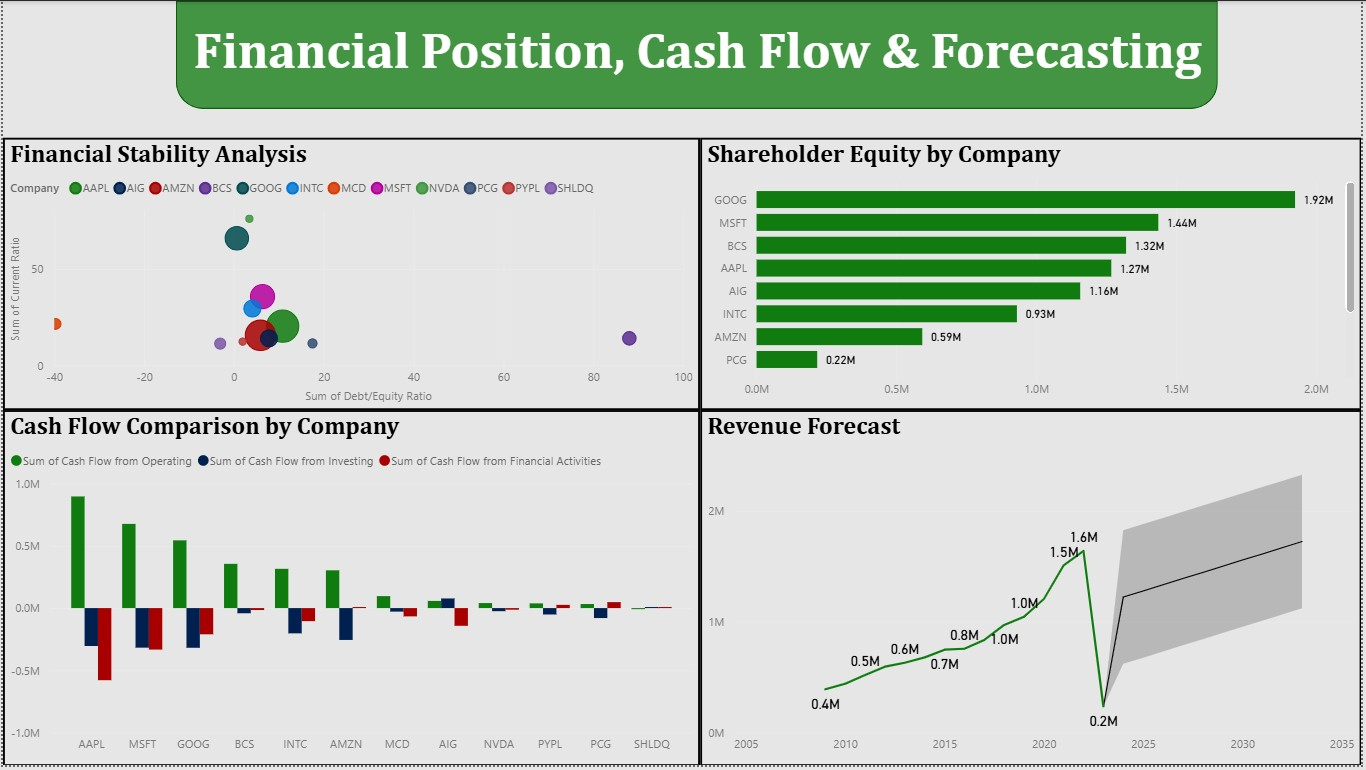

This screenshot's page, from the dashboard's own definition file:
{"tool":"powerbi","page":{"name":"statement","canvas":[1280,720],"ordinal":1},"visuals":[{"type":"barChart","title":"Shareholder Equity by Company","fields":{"Y":["Sum(Financial Statements.Share Holder Equity)"],"Category":["Financial Statements.Company "]},"box":[656.7,128.3,623.3,256.7],"z":0},{"type":"scatterChart","title":"Financial Stability Analysis","fields":{"Size":["Sum(Financial Statements.Revenue)"],"X":["Sum(Financial Statements.Debt/Equity Ratio)"],"Y":["Sum(Financial Statements.Current Ratio)"],"Series":["Financial Statements.Company "]},"box":[0,128.3,656.7,256.7],"z":1000},{"type":"lineChart","title":"Revenue Forecast","fields":{"Y":["Sum(Financial Statements.Revenue)"],"Category":["Financial Statements.Year"]},"box":[656.7,385,623.3,335],"z":2000},{"type":"clusteredColumnChart","title":"Cash Flow Comparison by Company","fields":{"Category":["Financial Statements.Company "],"Y":["Sum(Financial Statements.Cash Flow from Operating)","Sum(Financial Statements.Cash Flow from Investing)","Sum(Financial Statements.Cash Flow from Financial Activities)"]},"box":[0,385,656.7,335],"z":3000},{"type":"shape","box":[163.3,0,981.7,101.7],"z":4000},{"type":"textbox","box":[175,11.7,981.7,68.3],"z":5000}]}

Visuals, with their boxes in screenshot pixels (x1, y1, x2, y2), scaled from the page's 1280x720 canvas onto the 1366x770 screenshot:
"Shareholder Equity by Company" barChart: (x1=701, y1=137, x2=1365, y2=412)
"Financial Stability Analysis" scatterChart: (x1=0, y1=137, x2=701, y2=412)
"Revenue Forecast" lineChart: (x1=701, y1=412, x2=1365, y2=769)
"Cash Flow Comparison by Company" clusteredColumnChart: (x1=0, y1=412, x2=701, y2=769)
shape: (x1=174, y1=0, x2=1222, y2=109)
textbox: (x1=187, y1=13, x2=1234, y2=86)
